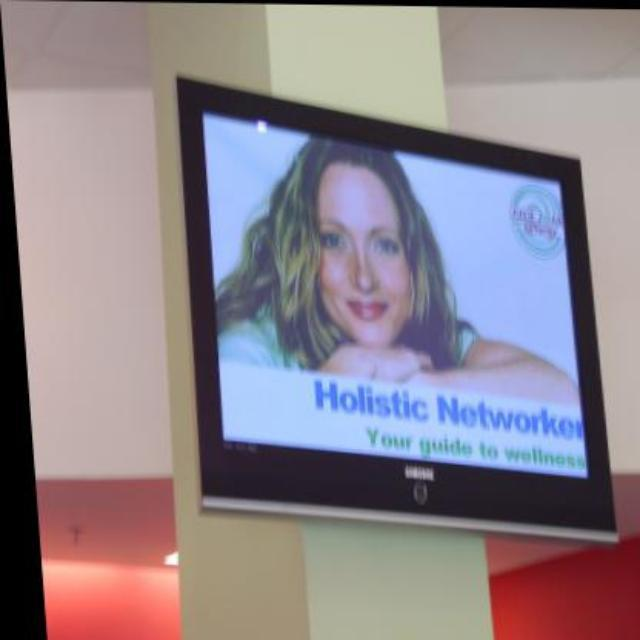Television: (182, 75, 627, 553)
